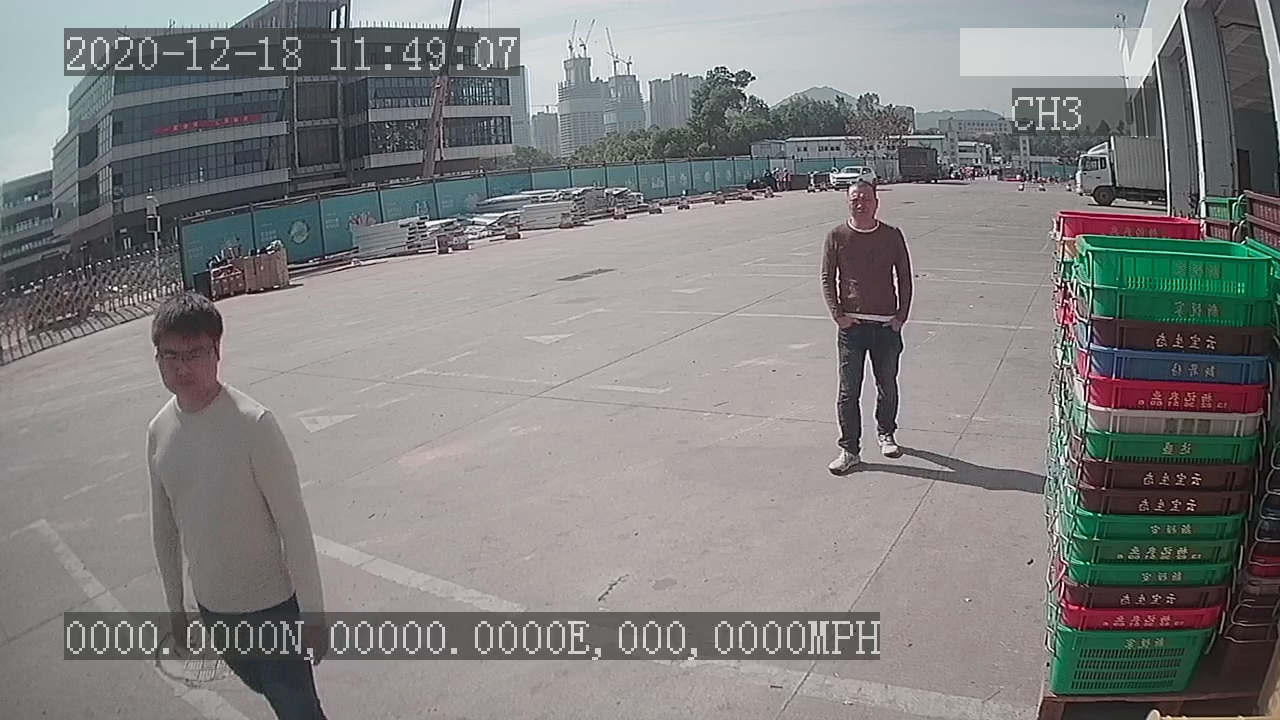person: (817, 179, 917, 476)
